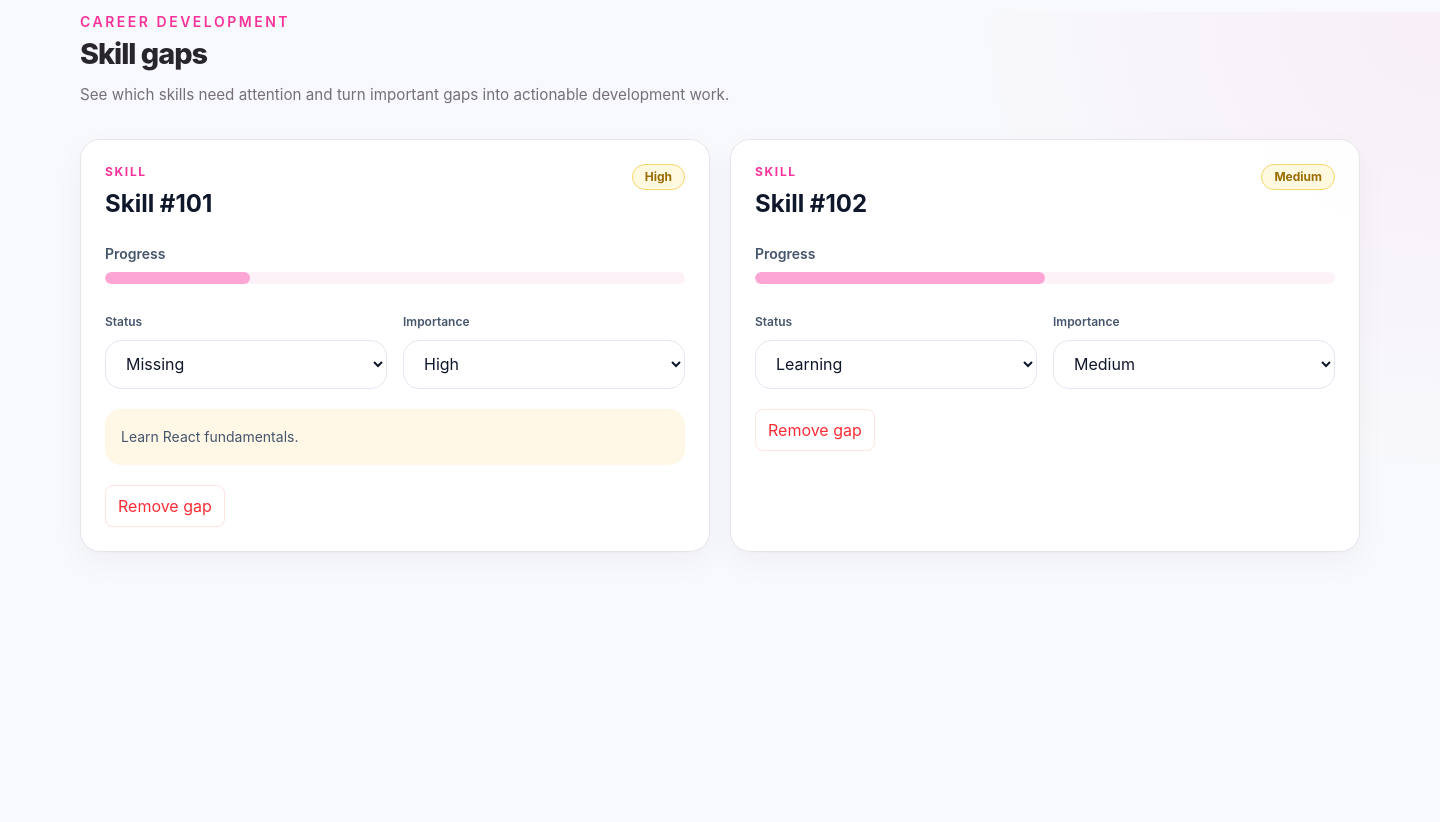
Test: SkillGaps › updates a skill gap status
Expected: the heading "Skill #101" is shown, [105,188,212,220]
Step 1. Select "Learning" in the dropdown labelled "Status" below "Skill #101" → (246, 364), box [105,340,387,389]
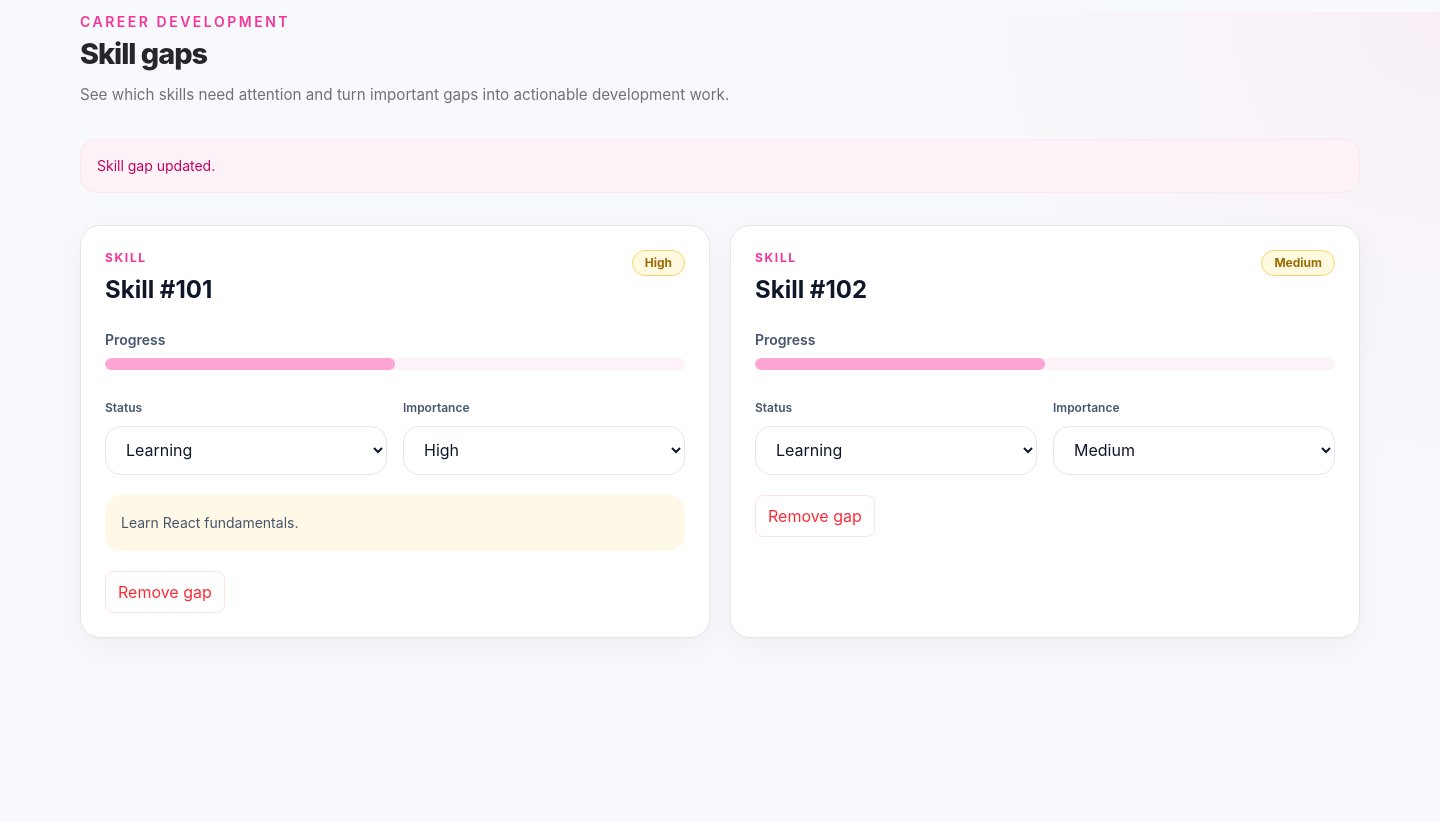
Expected: the text "Skill gap updated." is shown, [80,139,1360,193]
